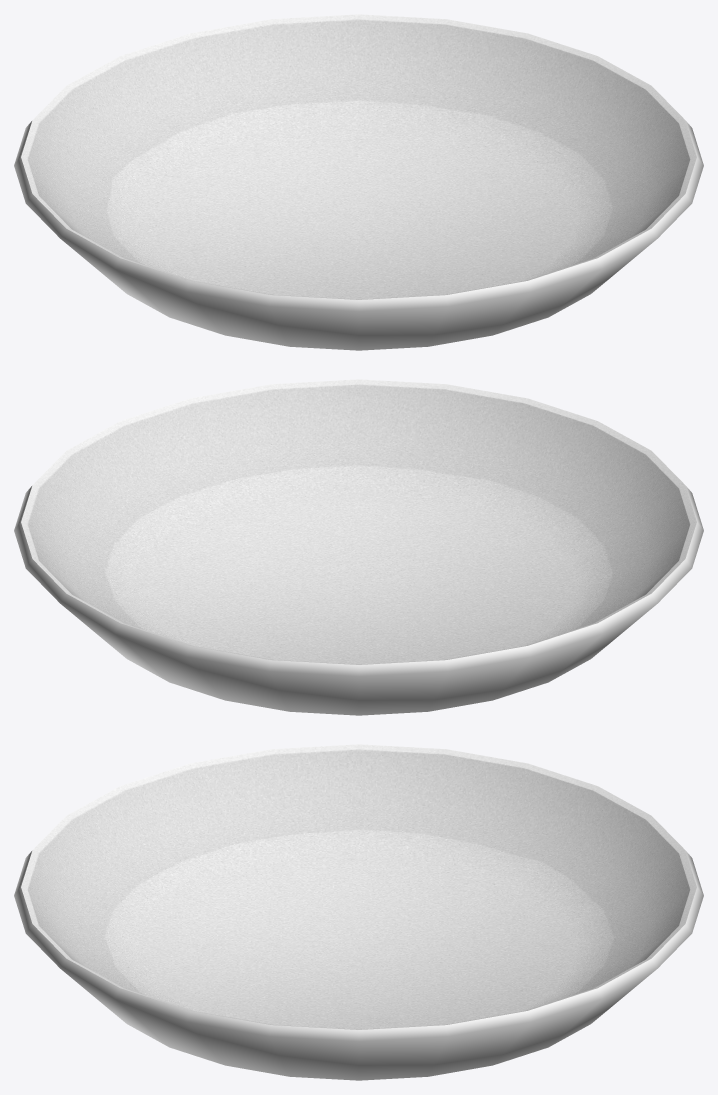
The model's file is WoodenPlate.fbx.
The picture shows the model from 3 angles, top to bottom: view 1: azimuth 30°, elevation 25°; view 2: azimuth 150°, elevation 25°; view 3: azimuth 270°, elevation 25°; orthographic projection.
Visible parts, largest first — view 1: Mesh; view 2: Mesh; view 3: Mesh.
Boxes of the visible parts, x1,y1,x2,y2 form: Mesh: [14, 14, 703, 350]; Mesh: [14, 379, 703, 715]; Mesh: [14, 744, 703, 1080].
Bounding box in the file's own units: 18.3 × 2.35 × 18.3.
